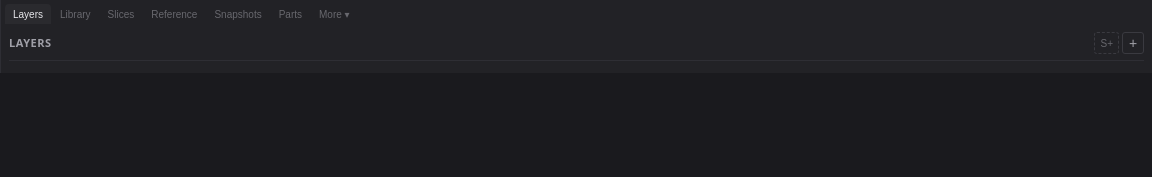
Test: RightDock › panel content routing › non-first placeholder tabs work
# "Canvas Props" is in the overflow menu — open it first
Click the button with test id "dock-overflow-btn".
click(334, 14)  # box [311,5,358,24]
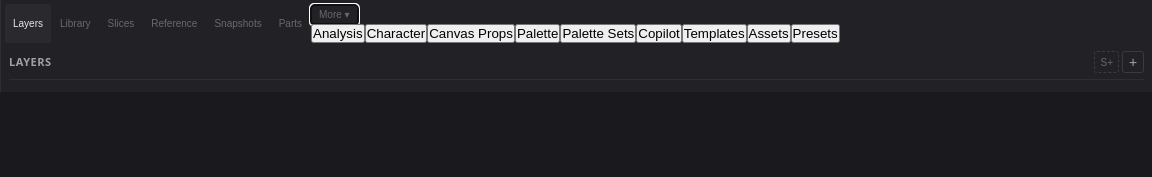
Click the button "Canvas Props".
click(471, 34)  # box [427,24,515,43]
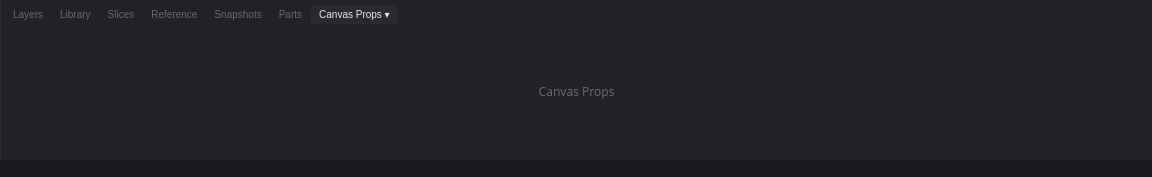
Now the element with class "dock-panel-placeholder" is shown, box [539,83,614,100]
